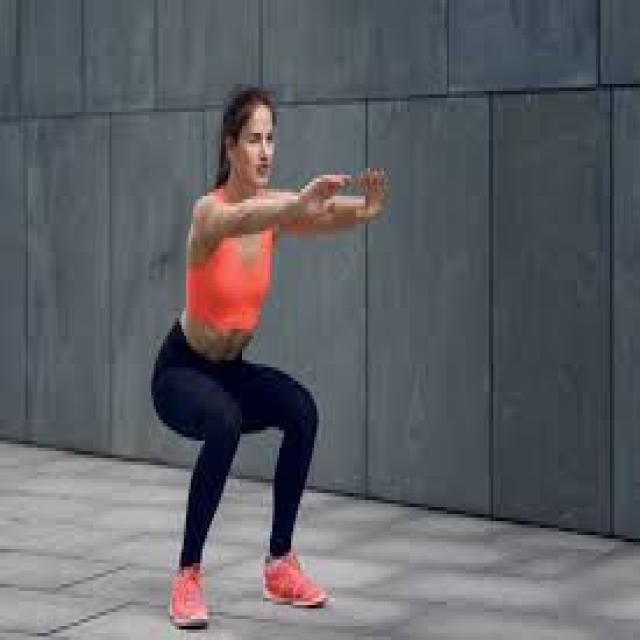squat: (152, 84, 388, 628)
